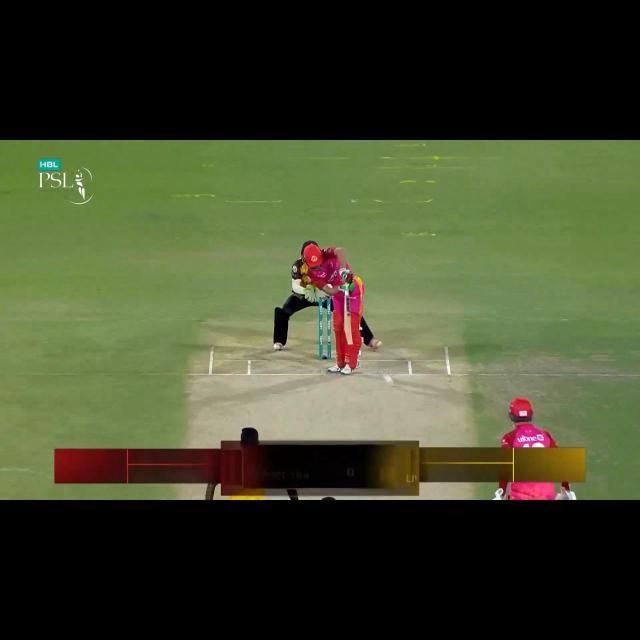bat: (344, 294, 352, 340)
toe: (343, 332, 356, 346)
